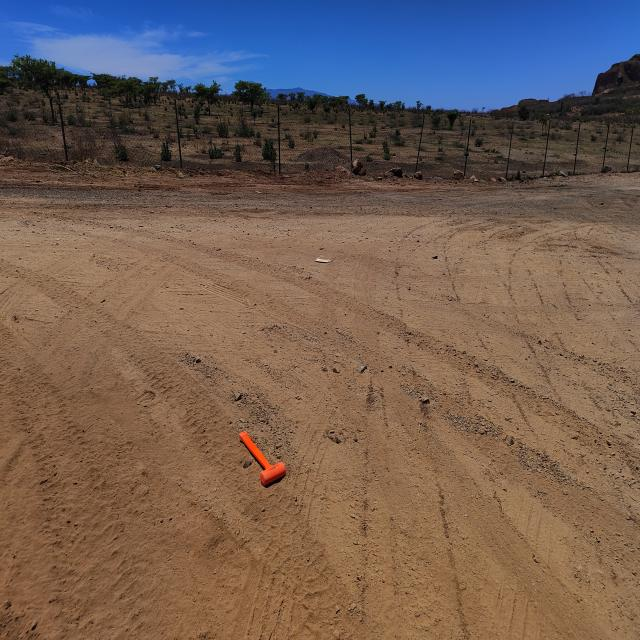Orange_hammer: (238, 429, 286, 487)
